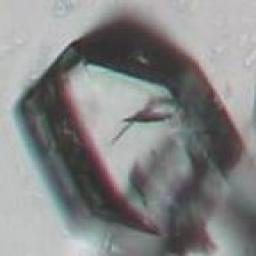crystals: (10, 10, 254, 248)
